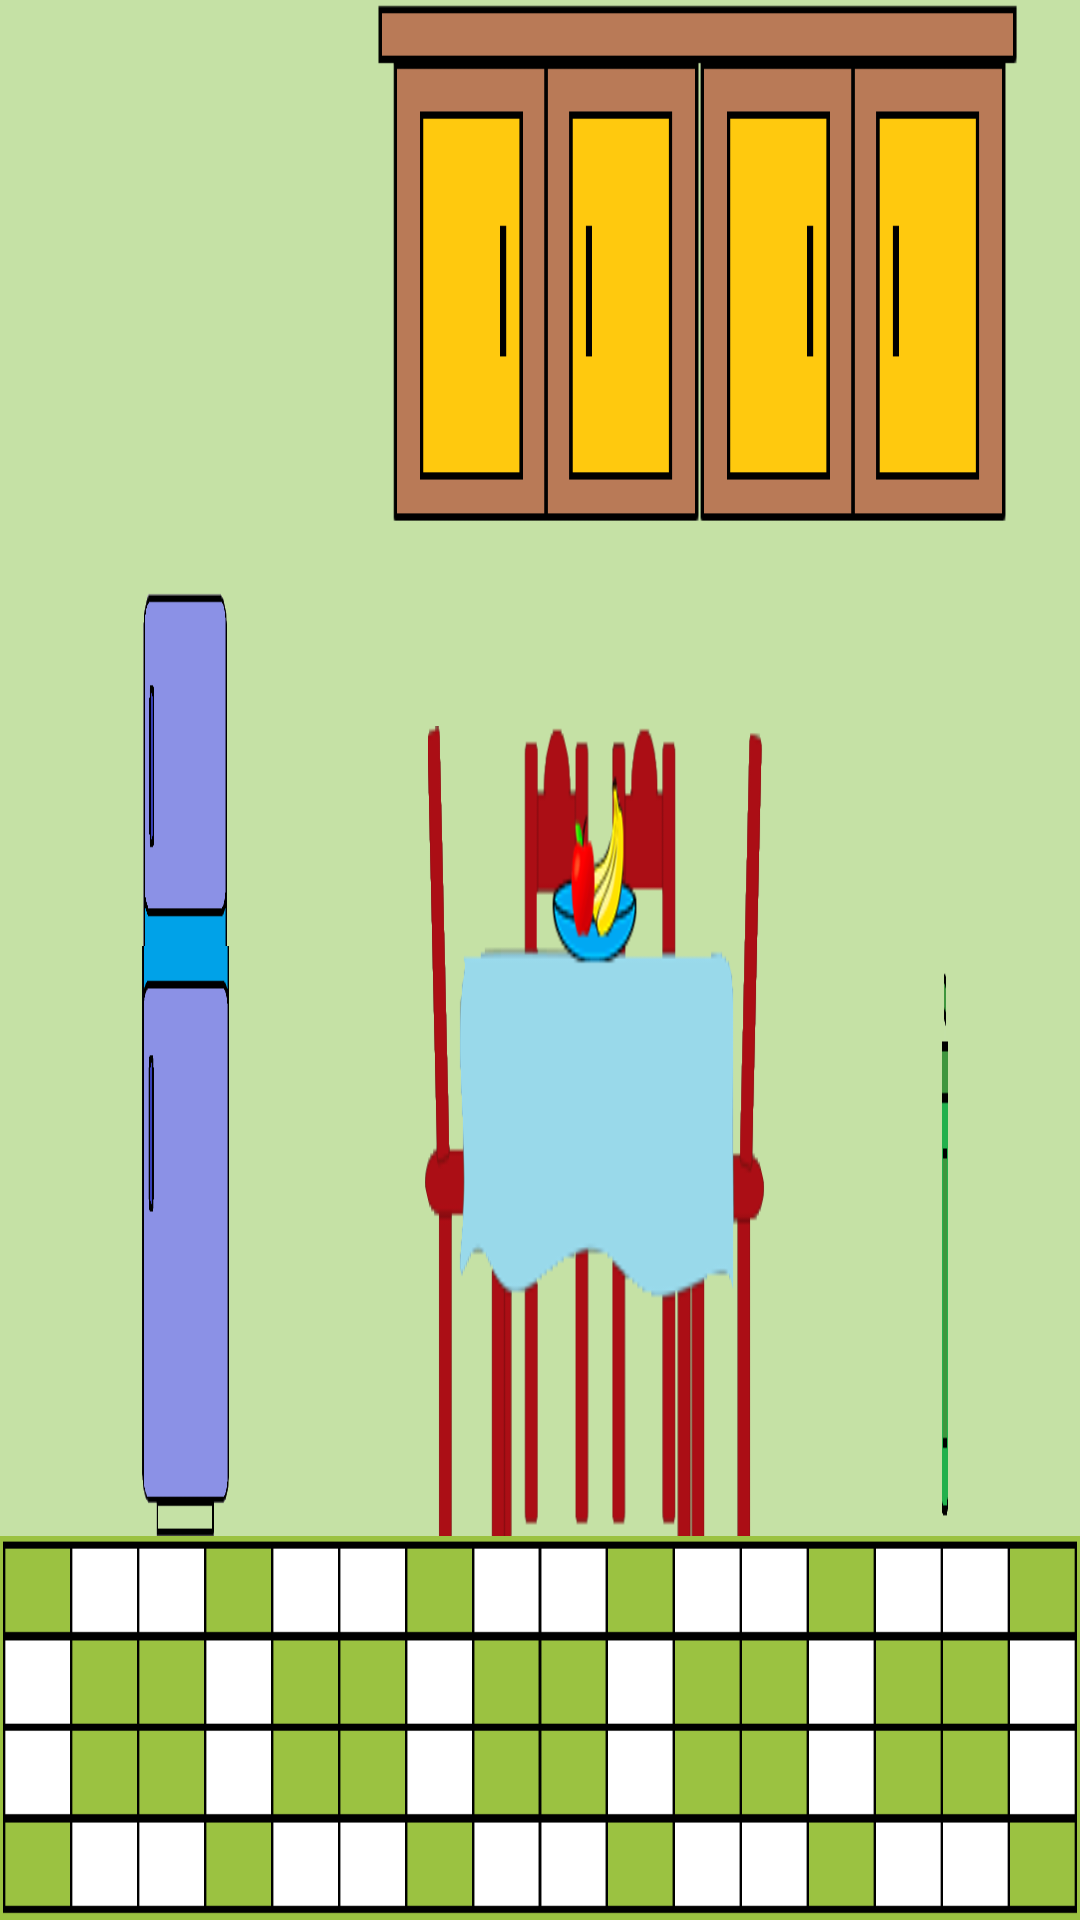

Locate icon controls on the screen. Image size 1080 x 1920, boxes as (x1, y1, x2, y2).
fridge top: (143, 594, 227, 946)
